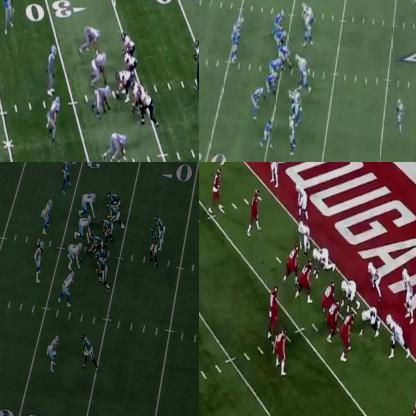CENTER: (115, 70, 132, 104), (320, 283, 337, 305), (278, 49, 292, 67), (91, 235, 102, 253)
DB: (48, 332, 61, 372), (295, 175, 304, 216), (395, 97, 405, 132), (5, 0, 15, 32), (62, 162, 72, 186), (212, 162, 226, 170)
LB: (387, 313, 407, 356), (402, 270, 415, 318), (286, 116, 298, 156), (50, 97, 61, 140), (62, 272, 75, 307), (49, 44, 57, 92), (298, 61, 311, 90), (367, 262, 379, 292), (267, 162, 280, 189), (299, 217, 308, 255), (41, 202, 52, 233), (36, 243, 44, 283), (303, 14, 312, 45)
QB: (271, 286, 279, 338), (149, 226, 158, 262), (231, 26, 237, 62), (195, 40, 198, 87)
SKILL: (275, 329, 290, 371), (249, 187, 262, 231), (261, 116, 274, 148), (154, 215, 165, 252), (84, 334, 96, 367), (251, 87, 261, 119), (214, 169, 223, 203), (108, 191, 121, 207), (236, 15, 243, 31)
